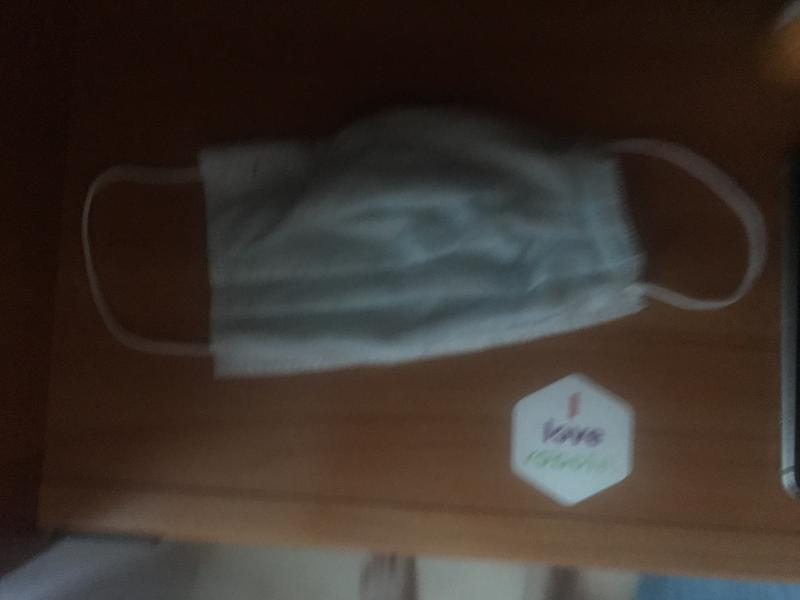medical_mask: (82, 113, 761, 366)
